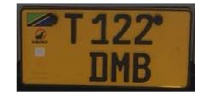T: (63, 10, 86, 46)
